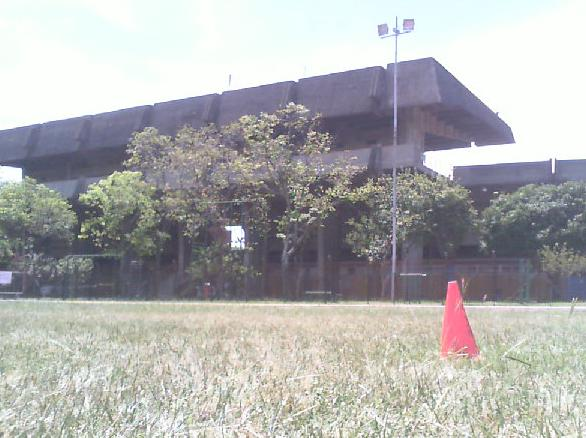0 cone: (440, 281, 484, 360)
